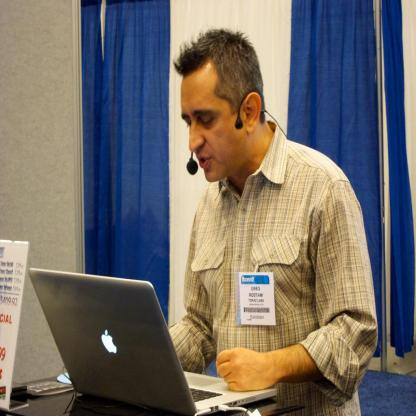board: (32, 264, 278, 416)
